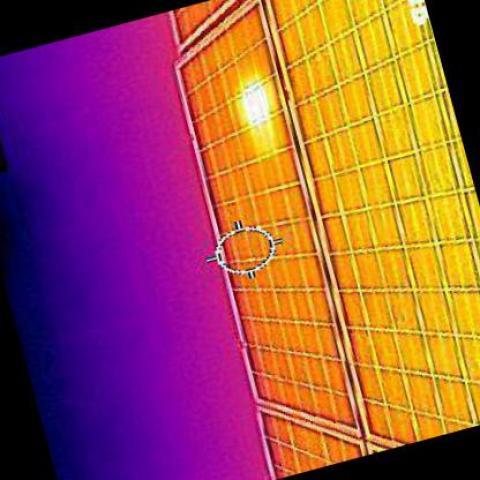fault: (235, 82, 268, 128)
